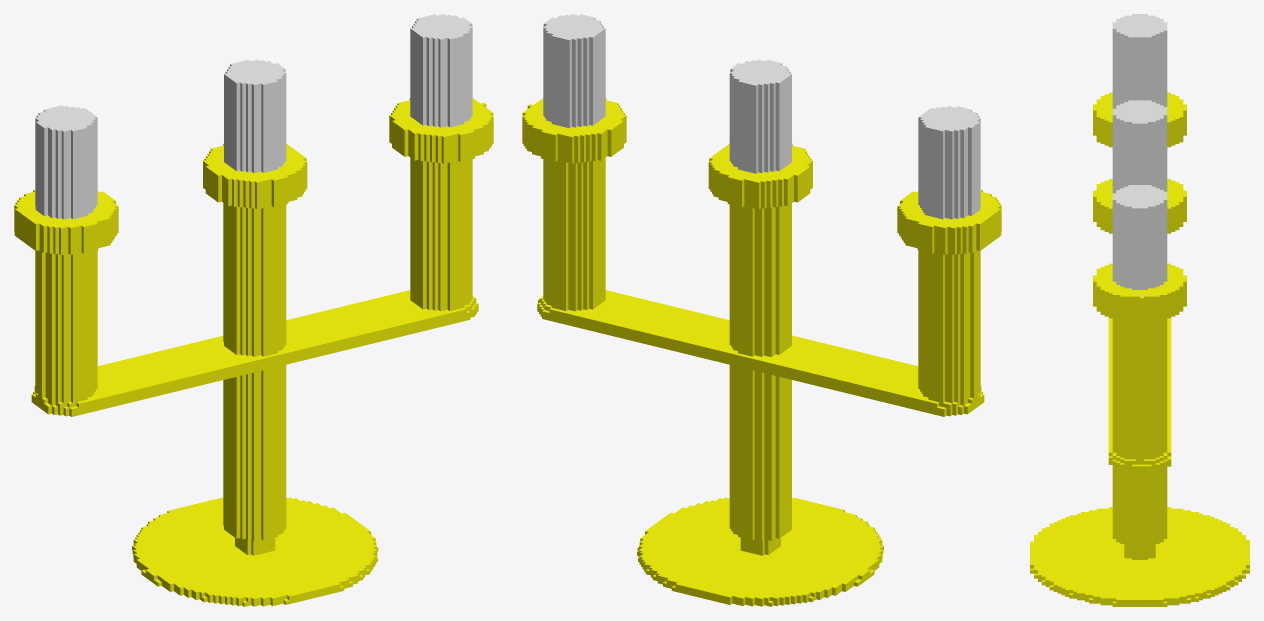
The model's file is podsv ----.obj.
3 views of the same model, side by side, from view 1: azimuth 30°, elevation 25°; view 2: azimuth 150°, elevation 25°; view 3: azimuth 270°, elevation 25° (orthographic). The views are drawn at different scales.
Size of the model in its own units: 126 by 126 by 56.
Materials: 1 (1 with a texture image).
